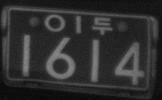0: (43, 13, 66, 32)
1: (82, 39, 108, 83), (12, 34, 39, 76), (69, 14, 89, 33)
4: (114, 41, 144, 85)
6: (45, 36, 76, 80)
두: (92, 15, 112, 36)
